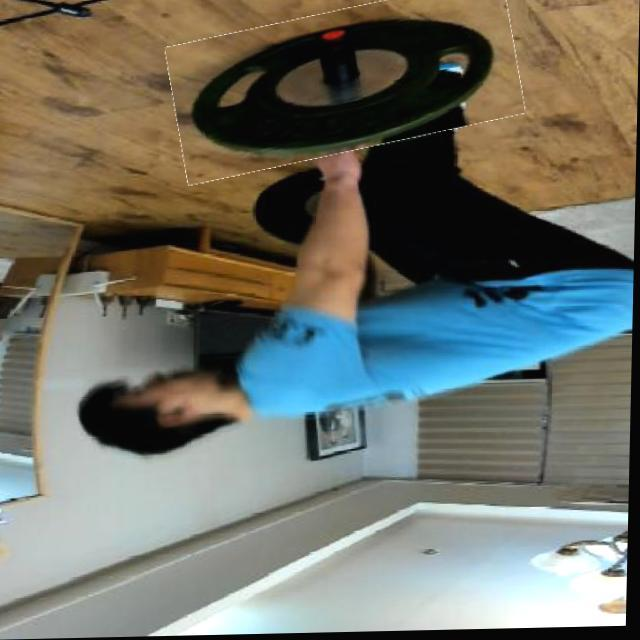barbell: (169, 1, 524, 173)
